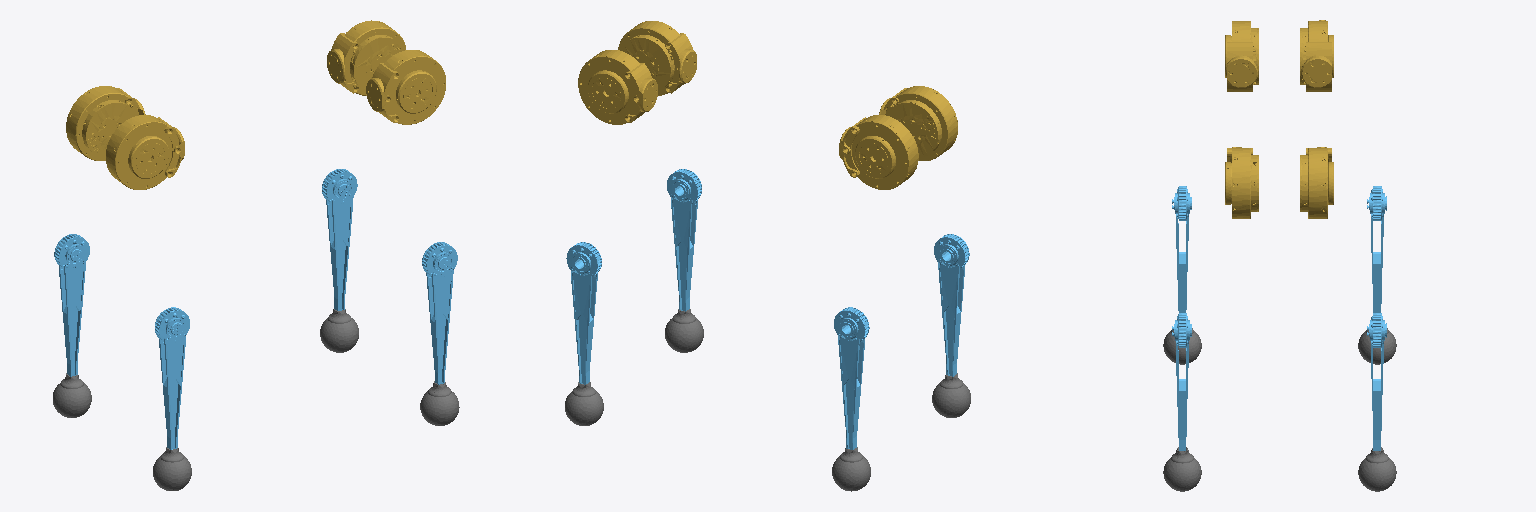
--- Render facts (derived) ---
3 views of the same robot in one strip: view 1: azimuth 30°, elevation 25°; view 2: azimuth 150°, elevation 25°; view 3: azimuth 270°, elevation 25° (orthographic).
Model yobotics_description with 17 links and 16 joints (12 revolute, 4 fixed), rooted at trunk, posed all joints at 0.
Links seen in each view (by area): view 1: RR_hip, FR_hip, FL_hip, RL_hip, RL_calf, FL_calf, RR_calf, FR_calf, RL_foot, FR_foot, FL_foot, RR_foot; view 2: RL_hip, FL_hip, FR_hip, RR_hip, RL_calf, RR_calf, FL_calf, FR_calf, FR_foot, FL_foot, RR_foot, RL_foot; view 3: FL_hip, RL_hip, FR_hip, RR_hip, FR_calf, FL_calf, RR_calf, RL_calf, FR_foot, FL_foot, RL_foot, RR_foot.
Link boxes in pixels (x1,y1,x2,y2): RR_hip: (106,115,184,189); FR_hip: (366,50,445,124); FL_hip: (327,20,405,95); RL_hip: (66,86,145,160); RL_calf: (54,234,89,376); FL_calf: (322,169,357,310); RR_calf: (155,307,189,449); FR_calf: (422,242,457,384); RL_foot: (53,373,91,417); FR_foot: (420,381,459,425); FL_foot: (320,309,358,352); RR_foot: (153,447,191,490); RL_hip: (839,115,918,189); FL_hip: (578,50,657,124); FR_hip: (618,21,696,95); RR_hip: (879,86,957,160); RL_calf: (834,307,869,449); RR_calf: (934,234,969,376); FL_calf: (566,242,601,384); FR_calf: (667,169,701,311); FR_foot: (665,309,703,352); FL_foot: (565,382,603,425); RR_foot: (932,373,970,417); RL_foot: (832,447,870,491); FL_hip: (1300,147,1333,218); RL_hip: (1300,20,1333,91); FR_hip: (1225,147,1258,218); RR_hip: (1225,21,1258,91); FR_calf: (1172,313,1191,450); FL_calf: (1367,313,1386,450); RR_calf: (1172,186,1191,312); RL_calf: (1367,186,1386,312); FR_foot: (1163,447,1201,491); FL_foot: (1358,447,1396,491); RL_foot: (1358,328,1396,364); RR_foot: (1163,328,1201,364).
Bounding box of the posed robot: 0.4856 × 0.3042 × 0.4881 m (x, y, z).
12 mesh visuals loaded from 5 distinct referenced files (3 binary STL); not drawn: 5 (reference not matched to a file when rendering).

The robot description file, URDF, robot "yobotics_description":
<?xml version="1.0" ?>
<!-- =================================================================================== -->
<!-- |    This document was autogenerated by xacro from robot.xacro                    | -->
<!-- |    EDITING THIS FILE BY HAND IS NOT RECOMMENDED                                 | -->
<!-- =================================================================================== -->
<robot name="yobotics_description" xmlns:xacro="http://www.ros.org/wiki/xacro">
  <!-- joint limits -->
  <!-- <xacro:property name="damping" value="0"/>
    <xacro:property name="friction" value="0"/>
    <xacro:property name="hip_max" value="120"/>
    <xacro:property name="hip_min" value="-120"/>
    <xacro:property name="hip_velocity_max" value="52.4"/>
    <xacro:property name="hip_torque_max" value="20"/>
    <xacro:property name="thigh_max" value="270"/>
    <xacro:property name="thigh_min" value="-270"/>
    <xacro:property name="thigh_velocity_max" value="28.6"/>
    <xacro:property name="thigh_torque_max" value="55"/>
    <xacro:property name="calf_max" value="155"/>
    <xacro:property name="calf_min" value="-155"/>
    <xacro:property name="calf_velocity_max" value="28.6"/>
    <xacro:property name="calf_torque_max" value="55"/> -->
  <material name="black">
    <color rgba="0.0 0.0 0.0 1.0"/>
  </material>
  <material name="blue">
    <color rgba="0.0 0.0 0.8 1.0"/>
  </material>
  <material name="green">
    <color rgba="0.0 0.8 0.0 1.0"/>
  </material>
  <material name="grey">
    <color rgba="0.2 0.2 0.2 1.0"/>
  </material>
  <material name="silver">
    <color rgba="0.913725490196 0.913725490196 0.847058823529 1.0"/>
  </material>
  <material name="orange">
    <color rgba="1.0 0.423529411765 0.0392156862745 1.0"/>
  </material>
  <material name="brown">
    <color rgba="0.870588235294 0.811764705882 0.764705882353 1.0"/>
  </material>
  <material name="white_gray">
    <color rgba="0.823529411765 0.823529411765 0.823529411765 1.0"/>
  </material>
  <material name="gold">
    <color rgba="0.811764705882 0.678431372549 0.301960784314 1.0"/>
  </material>
  <material name="white_blue">
    <color rgba="0.462745098039 0.8 0.992156862745 1.0"/>
  </material>
  <material name="white_black">
    <color rgba="0.494117647059 0.494117647059 0.494117647059 1.0"/>
  </material>
  <material name="red">
    <color rgba="0.8 0.0 0.0 1.0"/>
  </material>
  <material name="white">
    <color rgba="1.0 1.0 1.0 1.0"/>
  </material>
  <!-- ros_control plugin -->
  <gazebo>
    <plugin filename="libgazebo_ros_control.so" name="gazebo_ros_control">
      <robotNamespace>/yobotics_gazebo</robotNamespace>
      <robotSimType>gazebo_ros_control/DefaultRobotHWSim</robotSimType>
    </plugin>
  </gazebo>
  <!-- Show the trajectory of trunk center. -->
  <gazebo>
    <plugin filename="libLinkPlot3DPlugin.so" name="3dplot">
      <frequency>10</frequency>
      <plot>
        <link>trunk</link>
        <pose>0 0 0 0 0 0</pose>
        <material>Gazebo/Yellow</material>
      </plot>
    </plugin>
  </gazebo>
  <!-- Show the trajectory of foot. You can add another trajectory about another foot. -->
  <!-- <gazebo>
        <plugin name="3dplot" filename="libLinkPlot3DPlugin.so">
            <frequency>100</frequency>
            <plot>
                <link>FL_foot</link>
                <pose>0 0 0 0 0 0</pose>
                <material>Gazebo/Green</material>
            </plot>
        </plugin>
    </gazebo> -->
  <!-- <gazebo>
        <plugin name="${link_name}_controller" filename="libgazebo_ros_openni_kinect.so">
            <baseline>0.2</baseline>
            <alwaysOn>true</alwaysOn>
            <updateRate>2.0</updateRate>
            <cameraName>${camera_name}_ir</cameraName>
            <imageTopicName>/${camera_name}/depth/image_raw</imageTopicName>
            <cameraInfoTopicName>/${camera_name}/depth/camera_info</cameraInfoTopicName>
            <depthImageTopicName>/${camera_name}/depth/image_raw</depthImageTopicName>
            <depthImageInfoTopicName>/${camera_name}/depth/camera_info</depthImageInfoTopicName>
            <pointCloudTopicName>/${camera_name}/depth/points</pointCloudTopicName>
            <frameName>${frame_name}</frameName>
            <pointCloudCutoff>0.5</pointCloudCutoff>
            <distortionK1>0.00000001</distortionK1>
            <distortionK2>0.00000001</distortionK2>
            <distortionK3>0.00000001</distortionK3>
            <distortionT1>0.00000001</distortionT1>
            <distortionT2>0.00000001</distortionT2>
            <CxPrime>0</CxPrime>
            <Cx>0</Cx>
            <Cy>0</Cy>
            <focalLength>0</focalLength>
            <hackBaseline>0</hackBaseline>
        </plugin>
    </gazebo> -->
  <!--<gazebo>
    <plugin filename="libgazebo_ros_force.so" name="gazebo_ros_force">
      <bodyName>trunk</bodyName>
      <topicName>/apply_force/trunk</topicName>
    </plugin>
  </gazebo> -->
  <gazebo reference="imu_link">
    <gravity>true</gravity>
    <sensor name="imu_sensor" type="imu">
      <always_on>true</always_on>
      <update_rate>1000</update_rate>
      <visualize>true</visualize>
      <topic>__default_topic__</topic>
      <plugin filename="libgazebo_ros_imu_sensor.so" name="imu_plugin">
        <topicName>trunk_imu</topicName>
        <bodyName>imu_link</bodyName>
        <updateRateHZ>1000.0</updateRateHZ>
        <gaussianNoise>0.0</gaussianNoise>
        <xyzOffset>0 0 0</xyzOffset>
        <rpyOffset>0 0 0</rpyOffset>
        <frameName>imu_link</frameName>
      </plugin>
      <pose>0 0 0 0 0 0</pose>
    </sensor>
  </gazebo>
  <gazebo>
    <plugin filename="libgazebo_ros_p3d.so" name="p3d_base_controller">
      <alwaysOn>true</alwaysOn>
      <updateRate>10.0</updateRate>
      <bodyName>trunk</bodyName>
      <topicName>odom/ground_truth</topicName>
      <gaussianNoise>0.01</gaussianNoise>
      <frameName>world</frameName>
      <xyzOffsets>0 0 0</xyzOffsets>
      <rpyOffsets>0 0 0</rpyOffsets>
    </plugin>
  </gazebo>
  <gazebo>
    <plugin filename="libgazebo_ros_control.so" name="gazebo_ros_control">
      <legacyModeNS>true</legacyModeNS>
    </plugin>
  </gazebo>
  <!-- Foot contacts. -->
  <!-- <gazebo reference="FR_calf">
        <sensor name="FR_foot_contact" type="contact">
        <update_rate>100</update_rate>
        <plugin name="contactPlugin" filename="libyoboticsFootContactPlugin.so"/>
        <contact>
            <collision>FR_calf_fixed_joint_lump__FR_foot_collision_1</collision>
        </contact>
        </sensor>
    </gazebo>
    <gazebo reference="FL_calf">
        <sensor name="FL_foot_contact" type="contact">
        <update_rate>100</update_rate>
        <plugin name="contactPlugin" filename="libyoboticsFootContactPlugin.so"/>
        <contact>
            <collision>FL_calf_fixed_joint_lump__FL_foot_collision_1</collision>
        </contact>
        </sensor>
    </gazebo>
    <gazebo reference="RR_calf">
        <sensor name="RR_foot_contact" type="contact">
        <update_rate>100</update_rate>
        <plugin name="contactPlugin" filename="libyoboticsFootContactPlugin.so"/>
        <contact>
            <collision>RR_calf_fixed_joint_lump__RR_foot_collision_1</collision>
        </contact>
        </sensor>
    </gazebo>
    <gazebo reference="RL_calf">
        <sensor name="RL_foot_contact" type="contact">
        <update_rate>100</update_rate>
        <plugin name="contactPlugin" filename="libyoboticsFootContactPlugin.so"/>
        <contact>
            <collision>RL_calf_fixed_joint_lump__RL_foot_collision_1</collision>
        </contact>
        </sensor>
    </gazebo>   -->
  <!-- Visualization of Foot contacts. -->
  <!-- <gazebo reference="FR_foot">
        <visual>
            <plugin name="drawForcePlugin" filename="libyoboticsDrawForcePlugin.so">
                <topicName>FR_foot_contact</topicName>
            </plugin>
        </visual>
    </gazebo>
    <gazebo reference="FL_foot">
        <visual>
            <plugin name="drawForcePlugin" filename="libyoboticsDrawForcePlugin.so">
                <topicName>FL_foot_contact</topicName>
            </plugin>
        </visual>
    </gazebo>
    <gazebo reference="RR_foot">
        <visual>
            <plugin name="drawForcePlugin" filename="libyoboticsDrawForcePlugin.so">
                <topicName>RR_foot_contact</topicName>
            </plugin>
        </visual>
    </gazebo>
    <gazebo reference="RL_foot">
        <visual>
            <plugin name="drawForcePlugin" filename="libyoboticsDrawForcePlugin.so">
                <topicName>RL_foot_contact</topicName>
            </plugin>
        </visual>
    </gazebo>  -->
  <!-- <gazebo reference="base">
    <material>Gazebo/Green</material>
    <turnGravityOff>false</turnGravityOff>
  </gazebo> -->
  <gazebo reference="trunk">
    <mu1>0.9</mu1>
    <mu2>0.9</mu2>
    <kp value="1000000.0"/>
    <kd value="1.0"/>
  </gazebo>
  <gazebo reference="stick_link">
    <mu1>0.9</mu1>
    <mu2>0.9</mu2>
    <material>Gazebo/White</material>
  </gazebo>
  <gazebo reference="imu_link">
    <mu1>0.9</mu1>
    <mu2>0.9</mu2>
    <material>Gazebo/Red</material>
  </gazebo>
  <!-- FL leg -->
  <gazebo reference="FL_hip">
    <mu1>0.9</mu1>
    <mu2>0.9</mu2>
    <!-- <material>Gazebo/DarkGrey</material> -->
  </gazebo>
  <gazebo reference="FL_thigh">
    <mu1>0.9</mu1>
    <mu2>0.9</mu2>
    <self_collide>1</self_collide>
    <material>Gazebo/White</material>
    <kp value="1000000.0"/>
    <kd value="1.0"/>
  </gazebo>
  <gazebo reference="FL_calf">
    <mu1>0.9</mu1>
    <mu2>0.9</mu2>
    <self_collide>1</self_collide>
  </gazebo>
  <gazebo reference="FL_foot">
    <mu1>0.9</mu1>
    <mu2>0.9</mu2>
    <self_collide>1</self_collide>
    <material>Gazebo/DarkGrey</material>
    <kp value="1000000.0"/>
    <kd value="1.0"/>
  </gazebo>
  <!-- FR leg -->
  <gazebo reference="FR_hip">
    <mu1>0.9</mu1>
    <mu2>0.9</mu2>
    <!-- <material>Gazebo/DarkGrey</material> -->
  </gazebo>
  <gazebo reference="FR_thigh">
    <mu1>0.9</mu1>
    <mu2>0.9</mu2>
    <self_collide>1</self_collide>
    <material>Gazebo/White</material>
    <kp value="1000000.0"/>
    <kd value="1.0"/>imu_link
  </gazebo>
  <gazebo reference="FR_calf">
    <mu1>0.9</mu1>
    <mu2>0.9</mu2>
    <self_collide>1</self_collide>
  </gazebo>
  <gazebo reference="FR_foot">
    <mu1>0.9</mu1>
    <mu2>0.9</mu2>
    <self_collide>1</self_collide>
    <material>Gazebo/DarkGrey</material>
    <kp value="1000000.0"/>
    <kd value="1.0"/>
  </gazebo>
  <!-- RL leg -->
  <gazebo reference="RL_hip">
    <mu1>0.9</mu1>
    <mu2>0.9</mu2>
    <!-- <material>Gazebo/DarkGrey</material> -->
  </gazebo>
  <gazebo reference="RL_thigh">
    <mu1>0.9</mu1>
    <mu2>0.9</mu2>
    <self_collide>1</self_collide>
    <material>Gazebo/White</material>
    <kp value="1000000.0"/>
    <kd value="1.0"/>
  </gazebo>
  <gazebo reference="RL_calf">
    <mu1>0.9</mu1>
    <mu2>0.9</mu2>
    <self_collide>1</self_collide>
  </gazebo>
  <gazebo reference="RL_foot">
    <mu1>0.9</mu1>
    <mu2>0.9</mu2>
    <self_collide>1</self_collide>
    <material>Gazebo/DarkGrey</material>
    <kp value="1000000.0"/>
    <kd value="1.0"/>
  </gazebo>
  <!-- RR leg -->
  <gazebo reference="RR_hip">
    <mu1>0.9</mu1>
    <mu2>0.9</mu2>
    <!-- <material>Gazebo/Gold</material> -->
  </gazebo>
  <gazebo reference="RR_thigh">
    <mu1>0.9</mu1>
    <mu2>0.9</mu2>
    <self_collide>1</self_collide>
    <material>Gazebo/White</material>
    <kp value="1000000.0"/>
    <kd value="1.0"/>
  </gazebo>
  <gazebo reference="RR_calf">
    <mu1>0.9</mu1>
    <mu2>0.9</mu2>
    <self_collide>1</self_collide>
  </gazebo>
  <gazebo reference="RR_foot">
    <mu1>0.9</mu1>
    <mu2>0.9</mu2>
    <self_collide>1</self_collide>
    <material>Gazebo/DarkGrey</material>
    <kp value="1000000.0"/>
    <kd value="1.0"/>
  </gazebo>
  <!-- <link name="base">
    <visual>
      <origin rpy="0 0 0" xyz="0 0 0"/>
      <geometry>
        <box size="0.001 0.001 0.001"/>
      </geometry>
    </visual>
  </link>
  <joint name="floating_base" type="fixed">
    <origin rpy="0 0 0" xyz="0 0 0"/>
    <parent link="base"/>
    <child link="trunk"/>
  </joint> -->
  <link name="trunk">
    <visual>
      <origin rpy="0 0 0" xyz="0 0 0"/>
      <geometry>
        <mesh filename="package://yobotics_description/meshes/trunk.STL" scale="1 1 1"/>
      </geometry>
      <material name="white_gray"/>
    </visual>
    <collision>
      <origin rpy="0 0 0" xyz="0 0 0.04592"/>
      <geometry>
        <mesh filename="package://yobotics_description/meshes/trunk.STL" scale="1 1 1"/>
        <!-- <box size="${trunk_length} ${trunk_width} ${trunk_height}"/> -->
      </geometry>
    </collision>
    <inertial>
      <origin rpy="0 0 0" xyz="0 0 0"/>
      <mass value="3.3"/>
      <inertia ixx="0.011253" ixy="0.0" ixz="0.0" iyy="0.036203" iyz="-0.0" izz="0.042673"/>
    </inertial>
  </link>
  <!-- //////////////////////hip//////////////////// -->
  <joint name="RL_hip_joint" type="revolute">
    <!-- <joint name="${name}_hip_joint" type="continuous"> -->
    <origin rpy="0 0 0" xyz="-0.196 0.049664 0"/>
    <parent link="trunk"/>
    <child link="RL_hip"/>
    <axis xyz="1 0 0"/>
    <dynamics damping="0" friction="0"/>
    <limit effort="100" lower="-0.872664625997" upper="1.0471975512" velocity="1.0"/>
  </joint>
  <link name="RL_hip">
    <visual>
      <origin rpy="3.14159265359 0 0" xyz="0 0 0"/>
      <geometry>
        <mesh filename="package://yobotics_description/meshes/hip.STL" scale="1 1 1"/>
      </geometry>
      <material name="gold"/>
    </visual>
    <collision>
      <origin rpy="3.14159265359 0 0" xyz="0 0 0"/>
      <geometry>
        <mesh filename="package://yobotics_description/meshes/hip.STL" scale="1 1 1"/>
      </geometry>
    </collision>
    <inertial>
      <origin rpy="0 0 0" xyz="0.0 -0.036 0.0"/>
      <mass value="0.57"/>
      <inertia ixx="0.000381" ixy="0" ixz="0" iyy="0.00056" iyz="0.0" izz="0.000444"/>
    </inertial>
  </link>
  <!-- //////////////////////thigh//////////////////// -->
  <joint name="RL_thigh_joint" type="revolute">
    <!-- <joint name="${name}_thigh_joint" type="continuous"> -->
    <origin rpy="0 0 0" xyz="0 0.077476 0"/>
    <parent link="RL_hip"/>
    <child link="RL_thigh"/>
    <axis xyz="0 1 0"/>
    <dynamics damping="0" friction="0"/>
    <limit effort="100" lower="-0.523598775598" upper="3.92699081699" velocity="1.0"/>
  </joint>
  <link name="RL_thigh">
    <visual>
      <origin rpy="3.14159265359 3.14159265359 0" xyz="0 0 0"/>
      <geometry>
        <mesh filename="package://yobotics_description/meshes/thigh.STL" scale="1 1 1"/>
      </geometry>
      <material name="white_blue"/>
    </visual>
    <collision>
      <origin rpy="3.14159265359 3.14159265359 0" xyz="0 0 0"/>
      <geometry>
        <mesh filename="package://yobotics_description/meshes/thigh.STL" scale="1 1 1"/>
      </geometry>
      <material name="white_blue"/>
    </collision>
    <inertial>
      <origin rpy="0 0 0" xyz="0.0 -0.016 -0.02"/>
      <mass value="0.634"/>
      <inertia ixx="0.001983" ixy="0.0" ixz="0.0" iyy="0.002103" iyz="0.0" izz="0.000408"/>
    </inertial>
  </link>
  <!-- //////////////////////calf//////////////////// -->
  <joint name="RL_calf_joint" type="revolute">
    <!-- <joint name="${name}_calf_joint" type="continuous"> -->
    <origin rpy="0 0 0" xyz="0 0.0106 -0.2115"/>
    <parent link="RL_thigh"/>
    <child link="RL_calf"/>
    <axis xyz="0 1 0"/>
    <dynamics damping="0" friction="0"/>
    <!-- <limit effort="${calf_torque_max}" velocity="${calf_velocity_max}" lower="${calf_min*PI/180.0}" upper="${calf_max*PI/180.0}"/> -->
    <limit effort="100" lower="-3.14159265359" upper="3.14159265359" velocity="1.0"/>
  </joint>
  <link name="RL_calf">
    <visual>
      <origin rpy="0 0 0" xyz="0.0 0.0 0.0"/>
      <geometry>
        <mesh filename="package://yobotics_description/meshes/calf.STL" scale="1 1 1"/>
      </geometry>
      <material name="white_blue"/>
    </visual>
    <collision>
      <origin rpy="0 0 0" xyz="0.0 0.0 0.0"/>
      <geometry>
        <mesh filename="package://yobotics_description/meshes/calf.STL" scale="1 1 1"/>
      </geometry>
    </collision>
    <inertial>
      <origin rpy="0 0 0" xyz="0.0 0.0 -0.209"/>
      <mass value="0.064"/>
      <inertia ixx="0.000245" ixy="0.0" ixz="0.0" iyy="0.000248" iyz="0.0" izz="6e-06"/>
    </inertial>
  </link>
  <!-- //////////////////////foot//////////////////// -->
  <joint name="RL_foot_fixed" type="fixed">
    <origin rpy="0 0 0" xyz="0 0.0096 -0.21039"/>
    <parent link="RL_calf"/>
    <child link="RL_foot"/>
  </joint>
  <link name="RL_foot">
    <visual>
      <origin rpy="0 0 0" xyz="0 0 0"/>
      <geometry>
        <mesh filename="package://yobotics_description/meshes/foot.STL" scale="1 1 1"/>
      </geometry>
      <material name="white_black"/>
    </visual>
    <collision>
      <origin rpy="0 0 0" xyz="0 0 0"/>
      <geometry>
        <mesh filename="package://yobotics_description/meshes/foot.STL" scale="1 1 1"/>
      </geometry>
    </collision>
    <inertial>
      <origin rpy="0 0 0" xyz="0.0 0.0 0"/>
      <mass value="0.15"/>
      <inertia ixx="2.5e-05" ixy="0.0" ixz="0.0" iyy="2.5e-05" iyz="0.0" izz="2.5e-05"/>
    </inertial>
  </link>
  <transmission name="RL_hip_tran">
    <type>transmission_interface/SimpleTransmission</type>
    <joint name="RL_hip_joint">
      <hardwareInterface>EffortJointInterface</hardwareInterface>
    </joint>
    <actuator name="RL_hip_motor">
      <hardwareInterface>EffortJointInterface</hardwareInterface>
      <mechanicalReduction>1</mechanicalReduction>
    </actuator>
  </transmission>
  <transmission name="RL_thigh_tran">
    <type>transmission_interface/SimpleTransmission</type>
    <joint name="RL_thigh_joint">
      <hardwareInterface>EffortJointInterface</hardwareInterface>
    </joint>
    <actuator name="RL_thigh_motor">
      <hardwareInterface>EffortJointInterface</hardwareInterface>
      <mechanicalReduction>1</mechanicalReduction>
    </actuator>
  </transmission>
  <transmission name="RL_calf_tran">
    <type>transmission_interface/SimpleTransmission</type>
    <joint name="RL_calf_joint">
      <hardwareInterface>EffortJointInterface</hardwareInterface>
    </joint>
    <actuator name="RL_calf_motor">
      <hardwareInterface>EffortJointInterface</hardwareInterface>
      <mechanicalReduction>1</mechanicalReduction>
    </actuator>
  </transmission>
  <!-- //////////////////////hip//////////////////// -->
  <joint name="FL_hip_joint" type="revolute">
    <!-- <joint name="${name}_hip_joint" type="continuous"> -->
    <origin rpy="0 0 0" xyz="0.196 0.049664 0"/>
    <parent link="trunk"/>
    <child link="FL_hip"/>
    <axis xyz="1 0 0"/>
    <dynamics damping="0" friction="0"/>
    <limit effort="100" lower="-0.872664625997" upper="1.0471975512" velocity="1.0"/>
  </joint>
  <link name="FL_hip">
    <visual>
      <origin rpy="3.14159265359 3.14159265359 0" xyz="0 0 0"/>
      <geometry>
        <mesh filename="package://yobotics_description/meshes/hip.STL" scale="1 1 1"/>
      </geometry>
      <material name="gold"/>
    </visual>
    <collision>
      <origin rpy="3.14159265359 3.14159265359 0" xyz="0 0 0"/>
      <geometry>
        <mesh filename="package://yobotics_description/meshes/hip.STL" scale="1 1 1"/>
      </geometry>
    </collision>
    <inertial>
      <origin rpy="0 0 0" xyz="-0.0 -0.036 0.0"/>
      <mass value="0.57"/>
      <inertia ixx="0.000381" ixy="0.0" ixz="0.0" iyy="0.00056" iyz="0.0" izz="0.000444"/>
    </inertial>
  </link>
  <!-- //////////////////////thigh//////////////////// -->
  <joint name="FL_thigh_joint" type="revolute">
    <!-- <joint name="${name}_thigh_joint" type="continuous"> -->
    <origin rpy="0 0 0" xyz="0 0.077476 0"/>
    <parent link="FL_hip"/>
    <child link="FL_thigh"/>
    <axis xyz="0 1 0"/>
    <dynamics damping="0" friction="0"/>
    <limit effort="100" lower="-0.523598775598" upper="3.92699081699" velocity="1.0"/>
  </joint>
  <link name="FL_thigh">
    <visual>
      <origin rpy="3.14159265359 3.14159265359 0" xyz="0 0 0"/>
      <geometry>
        <mesh filename="package://yobotics_description/meshes/thigh.STL" scale="1 1 1"/>
      </geometry>
      <material name="white_blue"/>
    </visual>
    <collision>
      <origin rpy="3.14159265359 3.14159265359 0" xyz="0 0 0"/>
      <geometry>
        <mesh filename="package://yobotics_description/meshes/thigh.STL" scale="1 1 1"/>
      </geometry>
      <material name="white_blue"/>
    </collision>
    <inertial>
      <origin rpy="0 0 0" xyz="0.0 -0.016 -0.02"/>
      <mass value="0.634"/>
      <inertia ixx="0.001983" ixy="0.0" ixz="0.0" iyy="0.002103" iyz="0.0" izz="0.000408"/>
    </inertial>
  </link>
  <!-- //////////////////////calf//////////////////// -->
  <joint name="FL_calf_joint" type="revolute">
    <!-- <joint name="${name}_calf_joint" type="continuous"> -->
    <origin rpy="0 0 0" xyz="0 0.0106 -0.2115"/>
    <parent link="FL_thigh"/>
    <child link="FL_calf"/>
    <axis xyz="0 1 0"/>
    <dynamics damping="0" friction="0"/>
    <!-- <limit effort="${calf_torque_max}" velocity="${calf_velocity_max}" lower="${calf_min*PI/180.0}" upper="${calf_max*PI/180.0}"/> -->
    <limit effort="100" lower="-3.14159265359" upper="3.14159265359" velocity="1.0"/>
  </joint>
  <link name="FL_calf">
    <visual>
      <origin rpy="0 0 0" xyz="0.0 0.0 0.0"/>
      <geometry>
        <mesh filename="package://yobotics_description/meshes/calf.STL" scale="1 1 1"/>
      </geometry>
      <material name="white_blue"/>
    </visual>
    <collision>
      <origin rpy="0 0 0" xyz="0.0 0.0 0.0"/>
      <geometry>
        <mesh filename="package://yobotics_description/meshes/calf.STL" scale="1 1 1"/>
      </geometry>
    </collision>
    <inertial>
      <origin rpy="0 0 0" xyz="0.0 0.0 -0.209"/>
      <mass value="0.064"/>
      <inertia ixx="0.000245" ixy="0.0" ixz="0.0" iyy="0.000248" iyz="0.0" izz="6e-06"/>
    </inertial>
  </link>
  <!-- //////////////////////foot//////////////////// -->
  <joint name="FL_foot_fixed" type="fixed">
    <origin rpy="0 0 0" xyz="0 0.0096 -0.21039"/>
    <parent link="FL_calf"/>
    <child link="FL_foot"/>
  </joint>
  <link name="FL_foot">
    <visual>
      <origin rpy="0 0 0" xyz="0 0 0"/>
      <geometry>
        <mesh filename="package://yobotics_description/meshes/foot.STL" scale="1 1 1"/>
      </geometry>
      <material name="white_black"/>
    </visual>
    <collision>
      <origin rpy="0 0 0" xyz="0 0 0"/>
      <geometry>
        <mesh filename="package://yobotics_description/meshes/foot.STL" scale="1 1 1"/>
      </geometry>
    </collision>
    <inertial>
      <origin rpy="0 0 0" xyz="0.0 0.0 0"/>
      <mass value="0.15"/>
      <inertia ixx="2.5e-05" ixy="0.0" ixz="0.0" iyy="2.5e-05" iyz="0.0" izz="2.5e-05"/>
    </inertial>
  </link>
  <transmission name="FL_hip_tran">
    <type>transmission_interface/SimpleTransmission</type>
    <joint name="FL_hip_joint">
      <hardwareInterface>EffortJointInterface</hardwareInterface>
    </joint>
    <actuator name="FL_hip_motor">
      <hardwareInterface>EffortJointInterface</hardwareInterface>
      <mechanicalReduction>1</mechanicalReduction>
    </actuator>
  </transmission>
  <transmission name="FL_thigh_tran">
    <type>transmission_interface/SimpleTransmission</type>
    <joint name="FL_thigh_joint">
      <hardwareInterface>EffortJointInterface</hardwareInterface>
    </joint>
    <actuator name="FL_thigh_motor">
      <hardwareInterface>EffortJointInterface</hardwareInterface>
      <mechanicalReduction>1</mechanicalReduction>
    </actuator>
  </transmission>
  <transmission name="FL_calf_tran">
    <type>transmission_interface/SimpleTransmission</type>
    <joint name="FL_calf_joint">
      <hardwareInterface>EffortJointInterface</hardwareInterface>
    </joint>
    <actuator name="FL_calf_motor">
      <hardwareInterface>EffortJointInterface</hardwareInterface>
      <mechanicalReduction>1</mechanicalReduction>
    </actuator>
  </transmission>
  <!-- //////////////////////hip//////////////////// -->
  <joint name="RR_hip_joint" type="revolute">
    <!-- <joint name="${name}_hip_joint" type="continuous"> -->
    <origin rpy="0 0 0" xyz="-0.196 -0.049664 0"/>
    <parent link="trunk"/>
    <child link="RR_hip"/>
    <axis xyz="1 0 0"/>
    <dynamics damping="0" friction="0"/>
    <limit effort="100" lower="-1.0471975512" upper="0.872664625997" velocity="1.0"/>
  </joint>
  <link name="RR_hip">
    <visual>
      <origin rpy="0 0 0" xyz="0 0 0"/>
      <geometry>
        <mesh filename="package://yobotics_description/meshes/hip.STL" scale="1 1 1"/>
      </geometry>
      <material name="gold"/>
    </visual>
    <collision>
      <origin rpy="0 0 0" xyz="0 0 0"/>
      <geometry>
        <mesh filename="package://yobotics_description/meshes/hip.STL" scale="1 1 1"/>
      </geometry>
    </collision>
    <inertial>
      <origin rpy="0 0 0" xyz="0.0 0.036 0.0"/>
      <mass value="0.57"/>
      <inertia ixx="0.000381" ixy="0.0" ixz="0.0" iyy="0.00056" iyz="0.0" izz="0.000444"/>
    </inertial>
  </link>
  <!-- //////////////////////thigh//////////////////// -->
  <joint name="RR_thigh_joint" type="revolute">
    <!-- <joint name="${name}_thigh_joint" type="continuous"> -->
    <origin rpy="0 0 0" xyz="0 -0.077476 0"/>
    <parent link="RR_hip"/>
    <child link="RR_thigh"/>
    <axis xyz="0 1 0"/>
    <dynamics damping="0" friction="0"/>
    <limit effort="100" lower="-0.523598775598" upper="3.92699081699" velocity="1.0"/>
  </joint>
  <link name="RR_thigh">
    <visual>
      <origin rpy="0 0 0" xyz="0 0 0"/>
      <geometry>
        <mesh filename="package://yobotics_description/meshes/thigh.STL" scale="1 1 1"/>
      </geometry>
      <material name="white_blue"/>
    </visual>
    <collision>
      <origin rpy="0 0 0" xyz="0 0 0"/>
      <geometry>
        <mesh filename="package://yobotics_description/meshes/thigh.STL" scale="1 1 1"/>
      </geometry>
      <material name="white_blue"/>
    </collision>
    <inertial>
      <origin rpy="0 0 0" xyz="0.0 0.016 -0.02"/>
      <mass value="0.634"/>
      <inertia ixx="0.001983" ixy="0.0" ixz="0.0" iyy="0.002103" iyz="0.0" izz="0.000408"/>
    </inertial>
  </link>
  <!-- //////////////////////calf//////////////////// -->
  <joint name="RR_calf_joint" type="revolute">
    <!-- <joint name="${name}_calf_joint" type="continuous"> -->
    <origin rpy="0 0 0" xyz="0 0.0106 -0.2115"/>
    <parent link="RR_thigh"/>
    <child link="RR_calf"/>
    <axis xyz="0 1 0"/>
    <dynamics damping="0" friction="0"/>
    <!-- <limit effort="${calf_torque_max}" velocity="${calf_velocity_max}" lower="${calf_min*PI/180.0}" upper="${calf_max*PI/180.0}"/> -->
    <limit effort="100" lower="-3.14159265359" upper="3.14159265359" velocity="1.0"/>
  </joint>
  <link name="RR_calf">
    <visual>
      <origin rpy="0 0 0" xyz="0.0 0.0 0.0"/>
      <geometry>
        <mesh filename="package://yobotics_description/meshes/calf.STL" scale="1 1 1"/>
      </geometry>
      <material name="white_blue"/>
    </visual>
    <collision>
      <origin rpy="0 0 0" xyz="0.0 0.0 0.0"/>
      <geometry>
        <mesh filename="package://yobotics_description/meshes/calf.STL" scale="1 1 1"/>
      </geometry>
    </collision>
    <inertial>
      <origin rpy="0 0 0" xyz="0.0 0.0 -0.209"/>
      <mass value="0.064"/>
      <inertia ixx="0.000245" ixy="0.0" ixz="0.0" iyy="0.000248" iyz="0.0" izz="6e-06"/>
    </inertial>
  </link>
  <!-- //////////////////////foot//////////////////// -->
  <joint name="RR_foot_fixed" type="fixed">
    <origin rpy="0 0 0" xyz="0 0.0096 -0.21039"/>
    <parent link="RR_calf"/>
    <child link="RR_foot"/>
  </joint>
  <link name="RR_foot">
    <visual>
      <origin rpy="0 0 0" xyz="0 0 0"/>
      <geometry>
        <mesh filename="package://yobotics_description/meshes/foot.STL" scale="1 1 1"/>
      </geometry>
      <material name="white_black"/>
    </visual>
    <collision>
      <origin rpy="0 0 0" xyz="0 0 0"/>
      <geometry>
        <mesh filename="package://yobotics_description/meshes/foot.STL" scale="1 1 1"/>
      </geometry>
    </collision>
    <inertial>
      <origin rpy="0 0 0" xyz="0.0 0.0 0"/>
      <mass value="0.15"/>
      <inertia ixx="2.5e-05" ixy="0.0" ixz="0.0" iyy="2.5e-05" iyz="0.0" izz="2.5e-05"/>
    </inertial>
  </link>
  <transmission name="RR_hip_tran">
    <type>transmission_interface/SimpleTransmission</type>
    <joint name="RR_hip_joint">
      <hardwareInterface>EffortJointInterface</hardwareInterface>
    </joint>
    <actuator name="RR_hip_motor">
      <hardwareInterface>EffortJointInterface</hardwareInterface>
      <mechanicalReduction>1</mechanicalReduction>
    </actuator>
  </transmission>
  <transmission name="RR_thigh_tran">
    <type>transmission_interface/SimpleTransmission</type>
    <joint name="RR_thigh_joint">
      <hardwareInterface>EffortJointInterface</hardwareInterface>
    </joint>
    <actuator name="RR_thigh_motor">
      <hardwareInterface>EffortJointInterface</hardwareInterface>
      <mechanicalReduction>1</mechanicalReduction>
    </actuator>
  </transmission>
  <transmission name="RR_calf_tran">
    <type>transmission_interface/SimpleTransmission</type>
    <joint name="RR_calf_joint">
      <hardwareInterface>EffortJointInterface</hardwareInterface>
    </joint>
    <actuator name="RR_calf_motor">
      <hardwareInterface>EffortJointInterface</hardwareInterface>
      <mechanicalReduction>1</mechanicalReduction>
    </actuator>
  </transmission>
  <!-- //////////////////////hip//////////////////// -->
  <joint name="FR_hip_joint" type="revolute">
    <!-- <joint name="${name}_hip_joint" type="continuous"> -->
    <origin rpy="0 0 0" xyz="0.196 -0.049664 0"/>
    <parent link="trunk"/>
    <child link="FR_hip"/>
    <axis xyz="1 0 0"/>
    <dynamics damping="0" friction="0"/>
    <limit effort="100" lower="-1.0471975512" upper="0.872664625997" velocity="1.0"/>
  </joint>
  <link name="FR_hip">
    <visual>
      <origin rpy="0 3.14159265359 0" xyz="0 0 0"/>
      <geometry>
        <mesh filename="package://yobotics_description/meshes/hip.STL" scale="1 1 1"/>
      </geometry>
      <material name="gold"/>
    </visual>
    <collision>
      <origin rpy="0 3.14159265359 0" xyz="0 0 0"/>
      <geometry>
        <mesh filename="package://yobotics_description/meshes/hip.STL" scale="1 1 1"/>
      </geometry>
    </collision>
    <inertial>
      <origin rpy="0 0 0" xyz="-0.0 0.036 0.0"/>
      <mass value="0.57"/>
      <inertia ixx="0.000381" ixy="0.0" ixz="0.0" iyy="0.00056" iyz="0.0" izz="0.000444"/>
    </inertial>
  </link>
  <!-- //////////////////////thigh//////////////////// -->
  <joint name="FR_thigh_joint" type="revolute">
    <!-- <joint name="${name}_thigh_joint" type="continuous"> -->
    <origin rpy="0 0 0" xyz="0 -0.077476 0"/>
    <parent link="FR_hip"/>
    <child link="FR_thigh"/>
    <axis xyz="0 1 0"/>
    <dynamics damping="0" friction="0"/>
    <limit effort="100" lower="-0.523598775598" upper="3.92699081699" velocity="1.0"/>
  </joint>
  <link name="FR_thigh">
    <visual>
      <origin rpy="0 0 0" xyz="0 0 0"/>
      <geometry>
        <mesh filename="package://yobotics_description/meshes/thigh.STL" scale="1 1 1"/>
      </geometry>
      <material name="white_blue"/>
    </visual>
    <collision>
      <origin rpy="0 0 0" xyz="0 0 0"/>
      <geometry>
        <mesh filename="package://yobotics_description/meshes/thigh.STL" scale="1 1 1"/>
      </geometry>
      <material name="white_blue"/>
    </collision>
    <inertial>
      <origin rpy="0 0 0" xyz="0.0 0.016 -0.02"/>
      <mass value="0.634"/>
      <inertia ixx="0.001983" ixy="0.0" ixz="0.0" iyy="0.002103" iyz="0.0" izz="0.000408"/>
    </inertial>
  </link>
  <!-- //////////////////////calf//////////////////// -->
  <joint name="FR_calf_joint" type="revolute">
    <!-- <joint name="${name}_calf_joint" type="continuous"> -->
    <origin rpy="0 0 0" xyz="0 0.0106 -0.2115"/>
    <parent link="FR_thigh"/>
    <child link="FR_calf"/>
    <axis xyz="0 1 0"/>
    <dynamics damping="0" friction="0"/>
    <!-- <limit effort="${calf_torque_max}" velocity="${calf_velocity_max}" lower="${calf_min*PI/180.0}" upper="${calf_max*PI/180.0}"/> -->
    <limit effort="100" lower="-3.14159265359" upper="3.14159265359" velocity="1.0"/>
  </joint>
  <link name="FR_calf">
    <visual>
      <origin rpy="0 0 0" xyz="0.0 0.0 0.0"/>
      <geometry>
        <mesh filename="package://yobotics_description/meshes/calf.STL" scale="1 1 1"/>
      </geometry>
      <material name="white_blue"/>
    </visual>
    <collision>
      <origin rpy="0 0 0" xyz="0.0 0.0 0.0"/>
      <geometry>
        <mesh filename="package://yobotics_description/meshes/calf.STL" scale="1 1 1"/>
      </geometry>
    </collision>
    <inertial>
      <origin rpy="0 0 0" xyz="0.0 0.0 -0.209"/>
      <mass value="0.064"/>
      <inertia ixx="0.000245" ixy="0.0" ixz="0.0" iyy="0.000248" iyz="0.0" izz="6e-06"/>
    </inertial>
  </link>
  <!-- //////////////////////foot//////////////////// -->
  <joint name="FR_foot_fixed" type="fixed">
    <origin rpy="0 0 0" xyz="0 0.0096 -0.21039"/>
    <parent link="FR_calf"/>
    <child link="FR_foot"/>
  </joint>
  <link name="FR_foot">
    <visual>
      <origin rpy="0 0 0" xyz="0 0 0"/>
      <geometry>
        <mesh filename="package://yobotics_description/meshes/foot.STL" scale="1 1 1"/>
      </geometry>
      <material name="white_black"/>
    </visual>
    <collision>
      <origin rpy="0 0 0" xyz="0 0 0"/>
      <geometry>
        <mesh filename="package://yobotics_description/meshes/foot.STL" scale="1 1 1"/>
      </geometry>
    </collision>
    <inertial>
      <origin rpy="0 0 0" xyz="0.0 0.0 0"/>
      <mass value="0.15"/>
      <inertia ixx="2.5e-05" ixy="0.0" ixz="0.0" iyy="2.5e-05" iyz="0.0" izz="2.5e-05"/>
    </inertial>
  </link>
  <transmission name="FR_hip_tran">
    <type>transmission_interface/SimpleTransmission</type>
    <joint name="FR_hip_joint">
      <hardwareInterface>EffortJointInterface</hardwareInterface>
    </joint>
    <actuator name="FR_hip_motor">
      <hardwareInterface>EffortJointInterface</hardwareInterface>
      <mechanicalReduction>1</mechanicalReduction>
    </actuator>
  </transmission>
  <transmission name="FR_thigh_tran">
    <type>transmission_interface/SimpleTransmission</type>
    <joint name="FR_thigh_joint">
      <hardwareInterface>EffortJointInterface</hardwareInterface>
    </joint>
    <actuator name="FR_thigh_motor">
      <hardwareInterface>EffortJointInterface</hardwareInterface>
      <mechanicalReduction>1</mechanicalReduction>
    </actuator>
  </transmission>
  <transmission name="FR_calf_tran">
    <type>transmission_interface/SimpleTransmission</type>
    <joint name="FR_calf_joint">
      <hardwareInterface>EffortJointInterface</hardwareInterface>
    </joint>
    <actuator name="FR_calf_motor">
      <hardwareInterface>EffortJointInterface</hardwareInterface>
      <mechanicalReduction>1</mechanicalReduction>
    </actuator>
  </transmission>
</robot>
